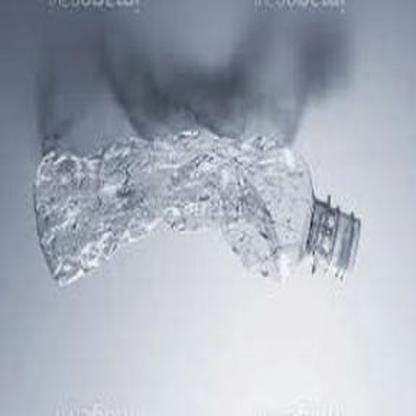plastic bottle: (33, 126, 362, 289)
